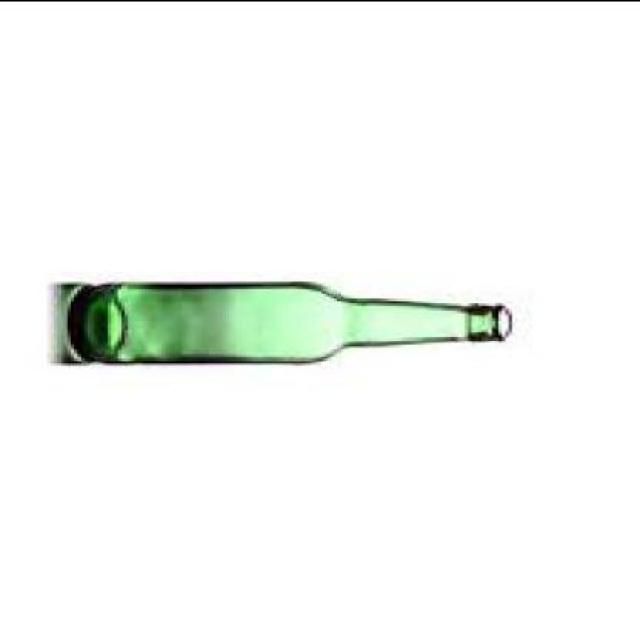GLASS: (71, 278, 515, 362)
